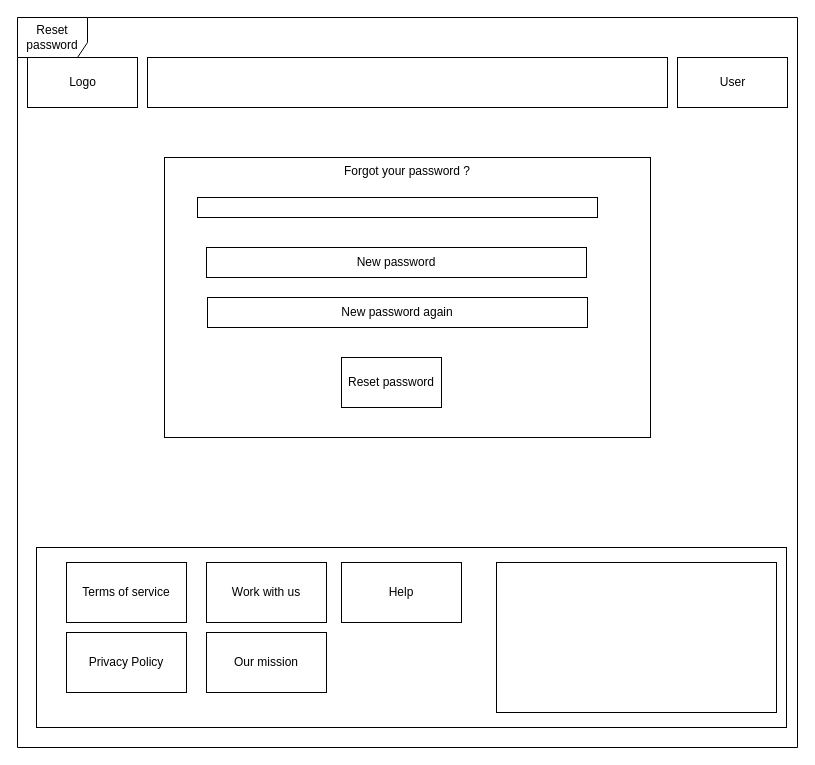
Some shapes in this 815 by 765 pixel diagram are drawn without their labels. Each missing label, with the centre of its shape:
"Contact Form" goes at point 636,637.
"Header main" goes at point 407,82.
"info" goes at point 397,207.
